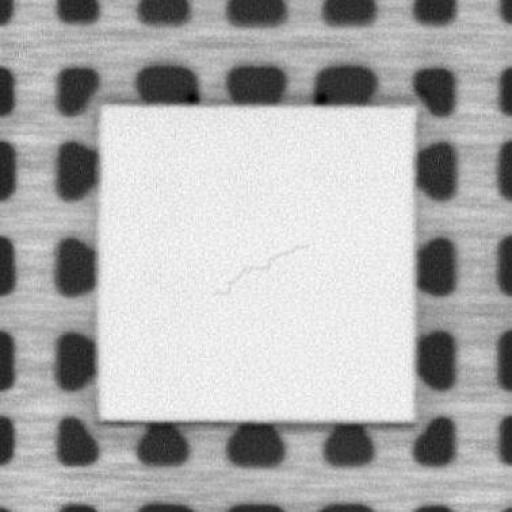DIE_CRACK: (212, 240, 314, 294)
